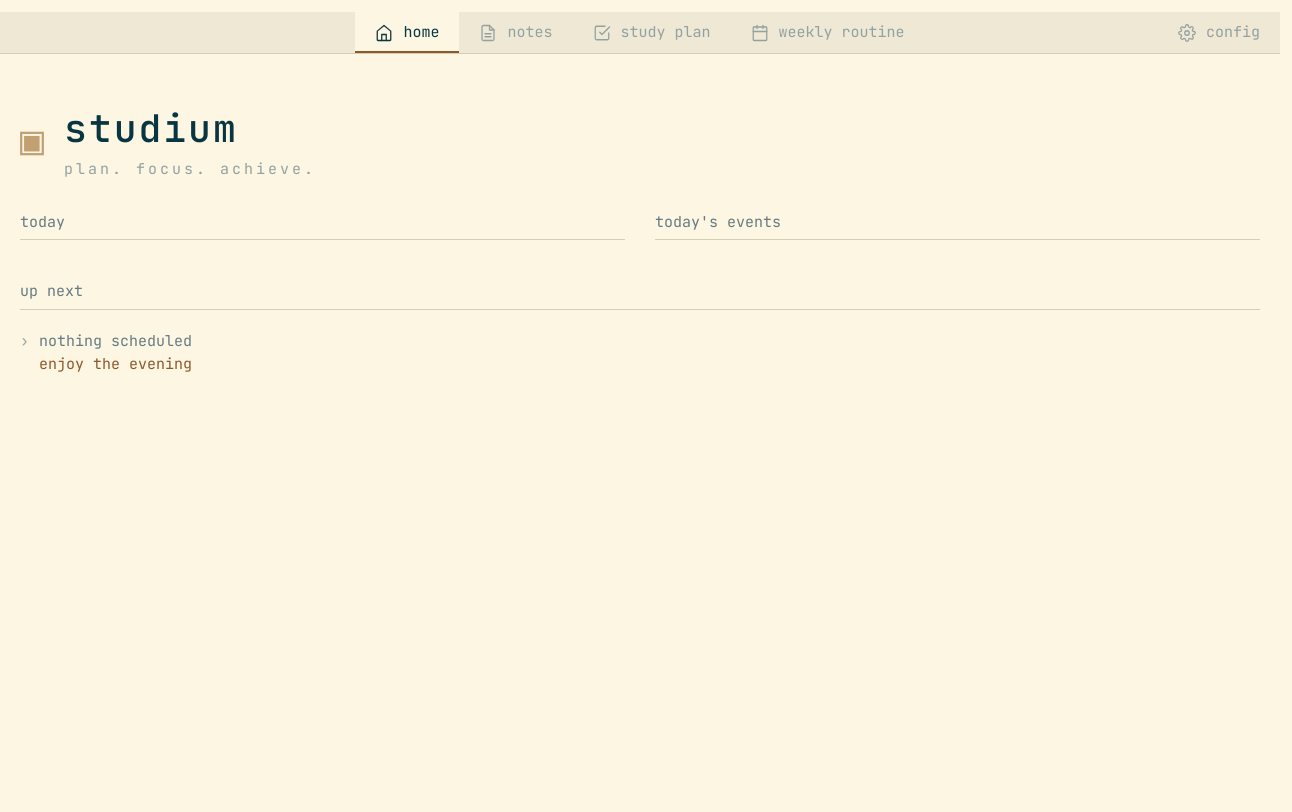
App › switches pages by clicking the top bar
Click the button "notes" at (516, 32), box [460,12,572,53]
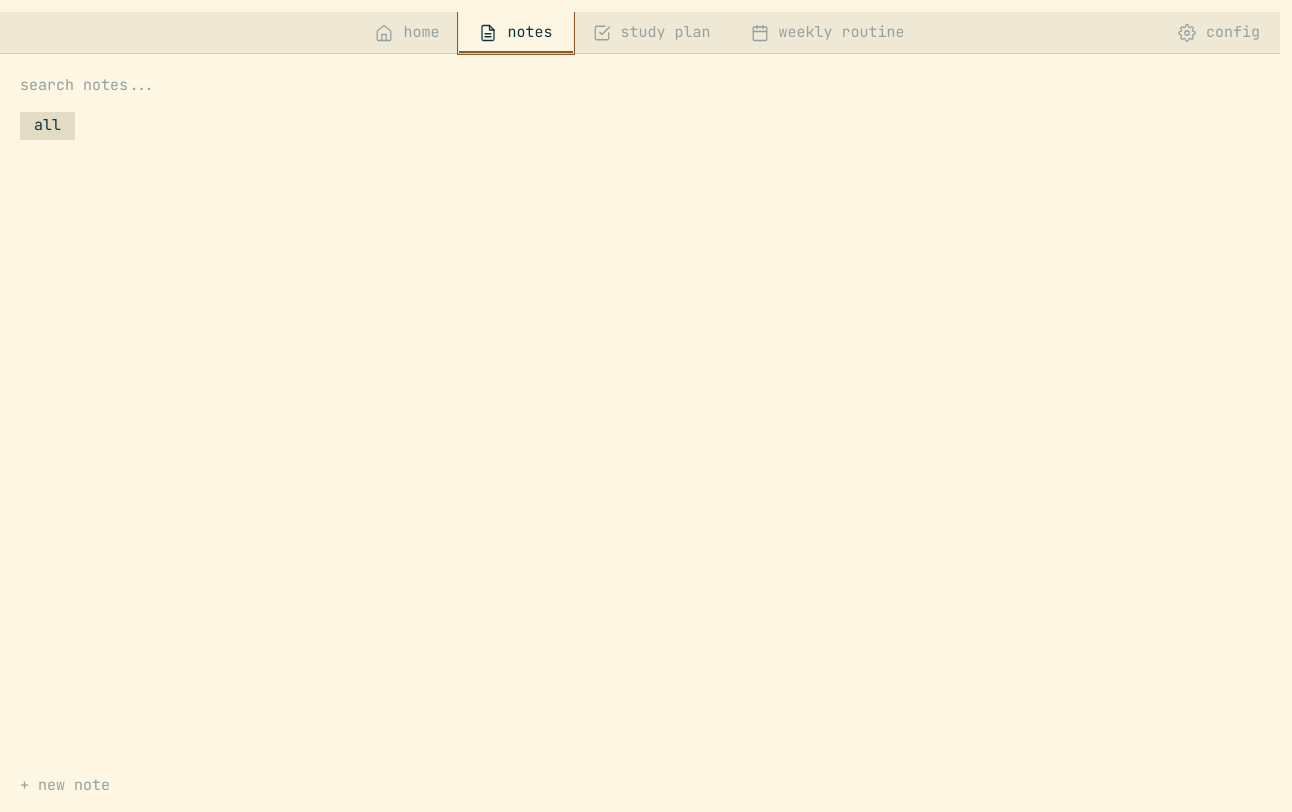
Expected: the element named "notes" is shown
